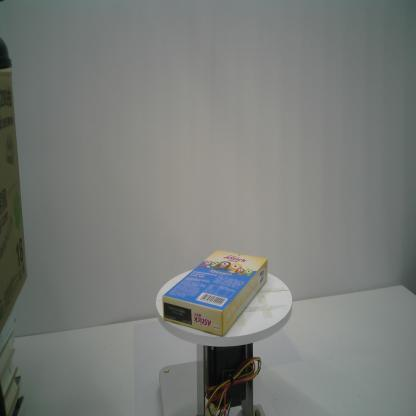Dessert: (163, 249, 268, 336)
